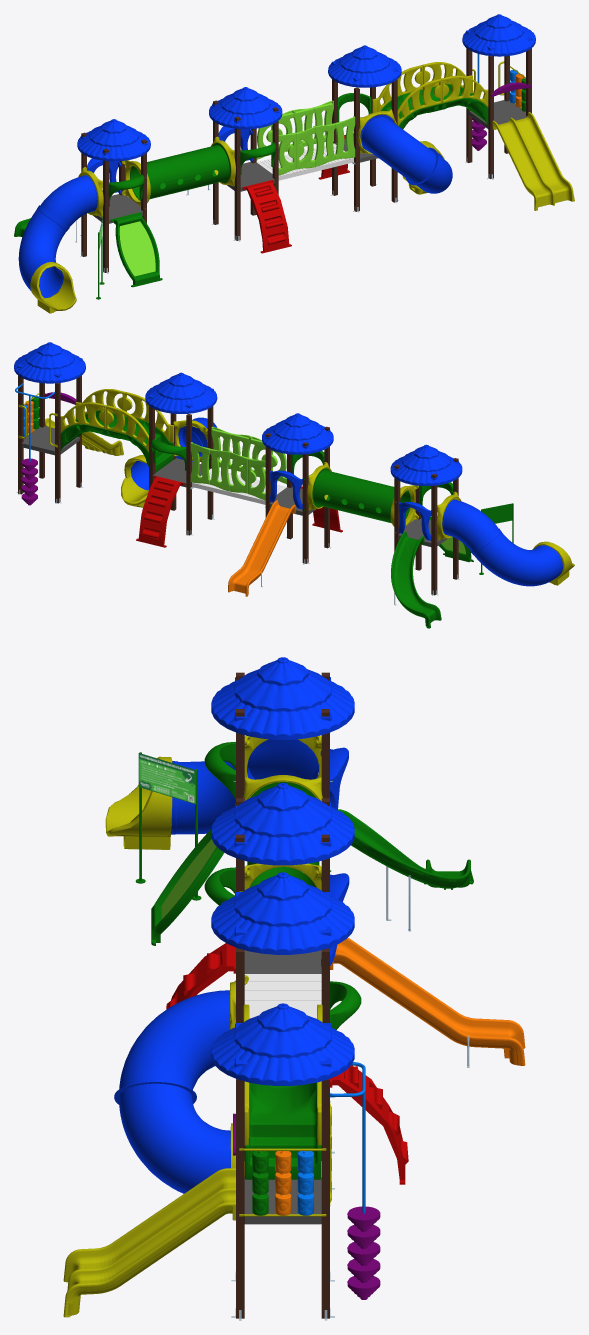
The picture shows the model from 3 angles, top to bottom: view 1: azimuth 30°, elevation 25°; view 2: azimuth 150°, elevation 25°; view 3: azimuth 270°, elevation 25°; orthographic projection. The views are drawn at different scales.
Visible parts, largest first — view 1: object 10, object 16, object 25, TOLDO M2.001, TOLDO M2.003, TOLDO M2.002, TOLDO M2, object 29, ESCALADA M2.001, LATERAL M1.002, LATERAL M1.003, LATERAL M1 (+14 smaller); view 2: object 10, object 25, object 16, TOLDO M2.001, TOLDO M2.003, TOLDO M2.002, TOLDO M2, object 29, ESCALADA M2, LATERAL M1.001, LATERAL M1, LATERAL M1.002 (+19 smaller); view 3: object 10, object 16, TOLDO M2.003, TOLDO M2.001, TOLDO M2.002, TOLDO M2, object 29, ESCALADA M2, COLUNA MAD PLAST 9 X 9CM.004, COLUNA MAD PLAST 9 X 9CM.005, object 32, PLATAFORMA M1 (+6 smaller).
Boxes of the visible parts, left/top/right/bottom form: object 10: left=14, top=84, right=488, bottom=297; object 16: left=30, top=54, right=574, bottom=313; object 25: left=119, top=100, right=355, bottom=276; TOLDO M2.001: left=462, top=14, right=535, bottom=56; TOLDO M2.003: left=328, top=45, right=401, bottom=87; TOLDO M2.002: left=209, top=87, right=282, bottom=129; TOLDO M2: left=77, top=119, right=150, bottom=161; object 29: left=75, top=136, right=353, bottom=242; ESCALADA M2.001: left=242, top=180, right=291, bottom=253; LATERAL M1.002: left=397, top=79, right=441, bottom=125; LATERAL M1.003: left=441, top=75, right=488, bottom=106; LATERAL M1: left=372, top=65, right=422, bottom=113; object 10: left=60, top=410, right=563, bottom=628; object 25: left=190, top=426, right=465, bottom=553; object 16: left=15, top=383, right=574, bottom=585; TOLDO M2.001: left=14, top=342, right=85, bottom=383; TOLDO M2.003: left=145, top=372, right=217, bottom=413; TOLDO M2.002: left=262, top=413, right=333, bottom=454; TOLDO M2: left=390, top=444, right=462, bottom=485; object 29: left=192, top=462, right=461, bottom=605; ESCALADA M2: left=136, top=476, right=184, bottom=547; LATERAL M1.001: left=60, top=402, right=106, bottom=432; LATERAL M1: left=106, top=405, right=155, bottom=451; LATERAL M1.002: left=124, top=392, right=173, bottom=442; object 10: left=114, top=739, right=525, bottom=1193; object 16: left=63, top=756, right=365, bottom=1317; TOLDO M2.003: left=211, top=872, right=354, bottom=954; TOLDO M2.001: left=211, top=1003, right=354, bottom=1085; TOLDO M2.002: left=211, top=783, right=354, bottom=865; TOLDO M2: left=211, top=657, right=354, bottom=739; object 29: left=243, top=735, right=410, bottom=1018; ESCALADA M2: left=330, top=1065, right=408, bottom=1184; COLUNA MAD PLAST 9 X 9CM.004: left=236, top=1079, right=244, bottom=1318; COLUNA MAD PLAST 9 X 9CM.005: left=321, top=1079, right=329, bottom=1318; object 32: left=138, top=753, right=196, bottom=804; PLATAFORMA M1: left=244, top=1177, right=321, bottom=1224.
Size of the model in its own units: 12.71 by 3.48 by 4.91.
20 materials, 1 textured.
